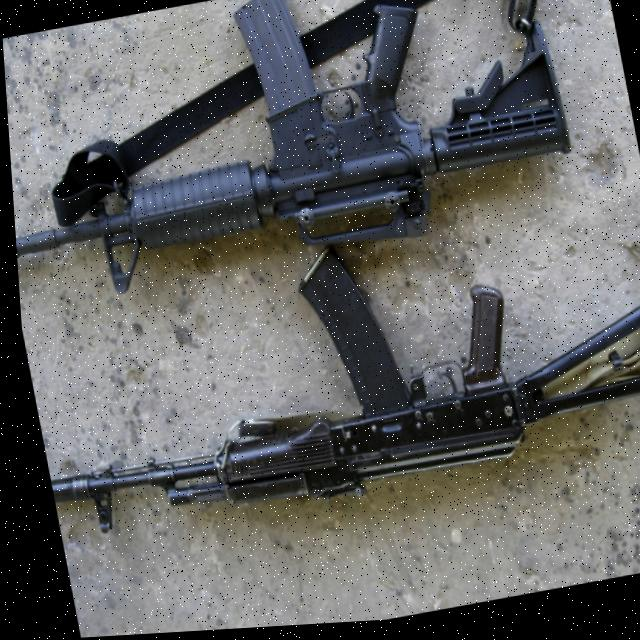firearm: (12, 192, 640, 555), (0, 0, 582, 311)
